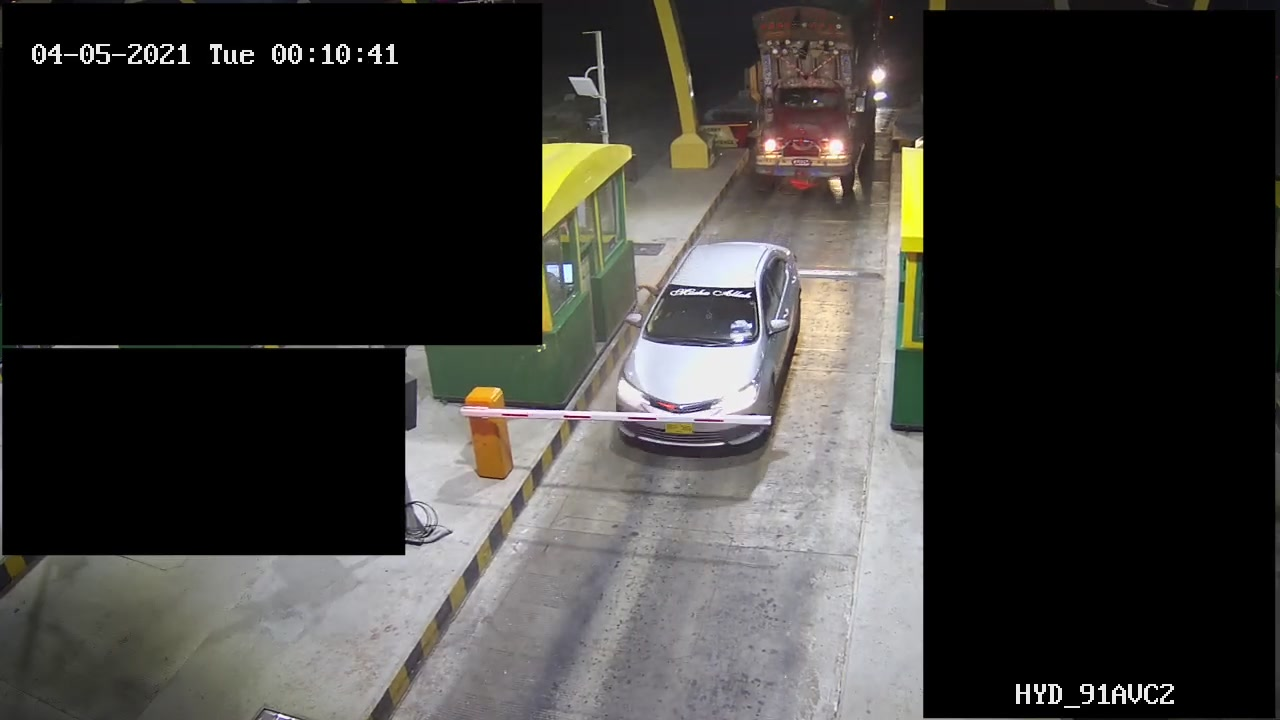F1: (609, 222, 822, 457)
